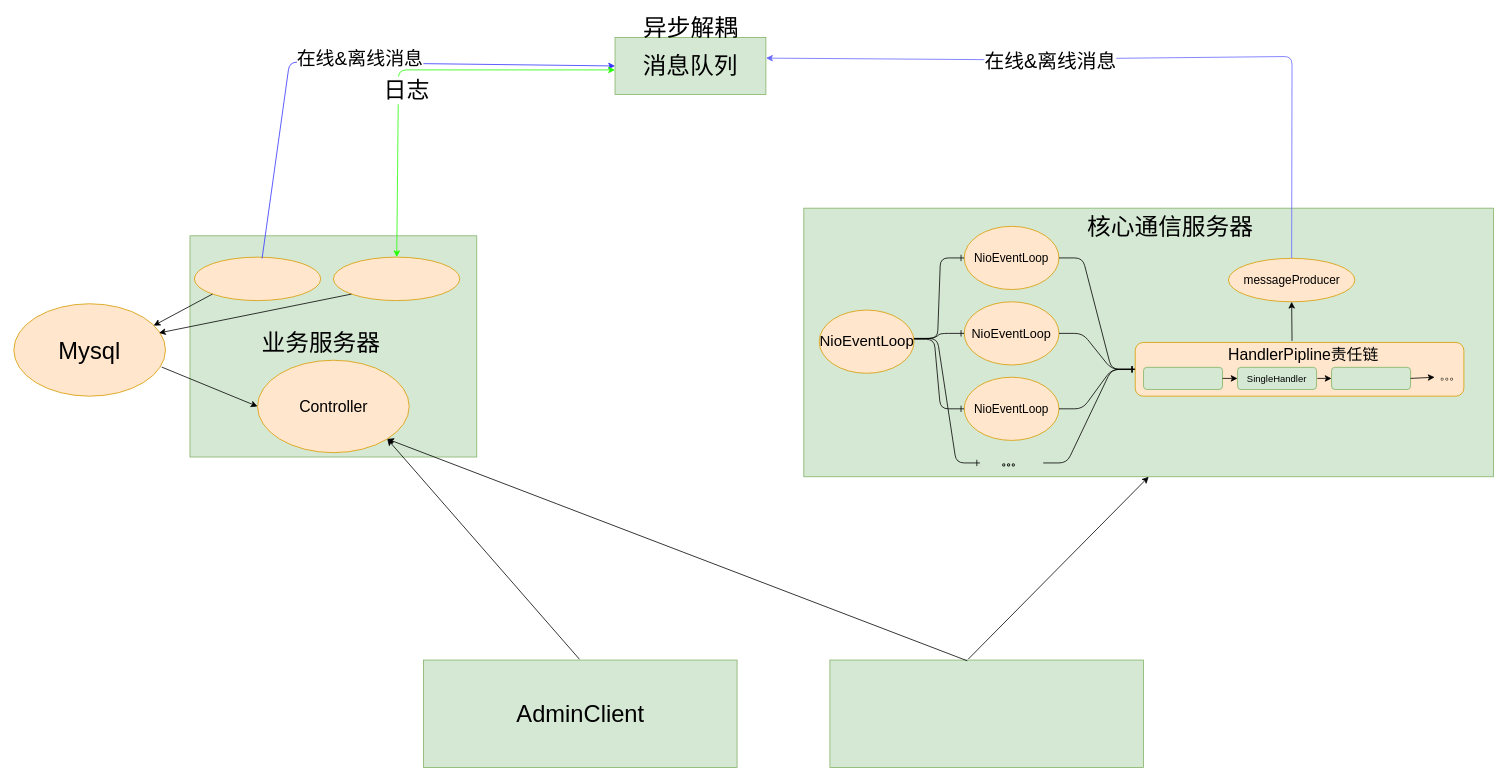
The diagram is 1507 pixels wide and 781 high, and some of its shapes have lost their labels. Here are the shapes that lost their labels. From the top down, the centre of each, then its label:
At point (257, 278): "messageConsumer".
At point (396, 278): "LogConsumer&Consumner".
At point (1183, 378): "RegisterHandler".
At point (1371, 378): "GroupHandler".
At point (986, 713): "chatClient".
